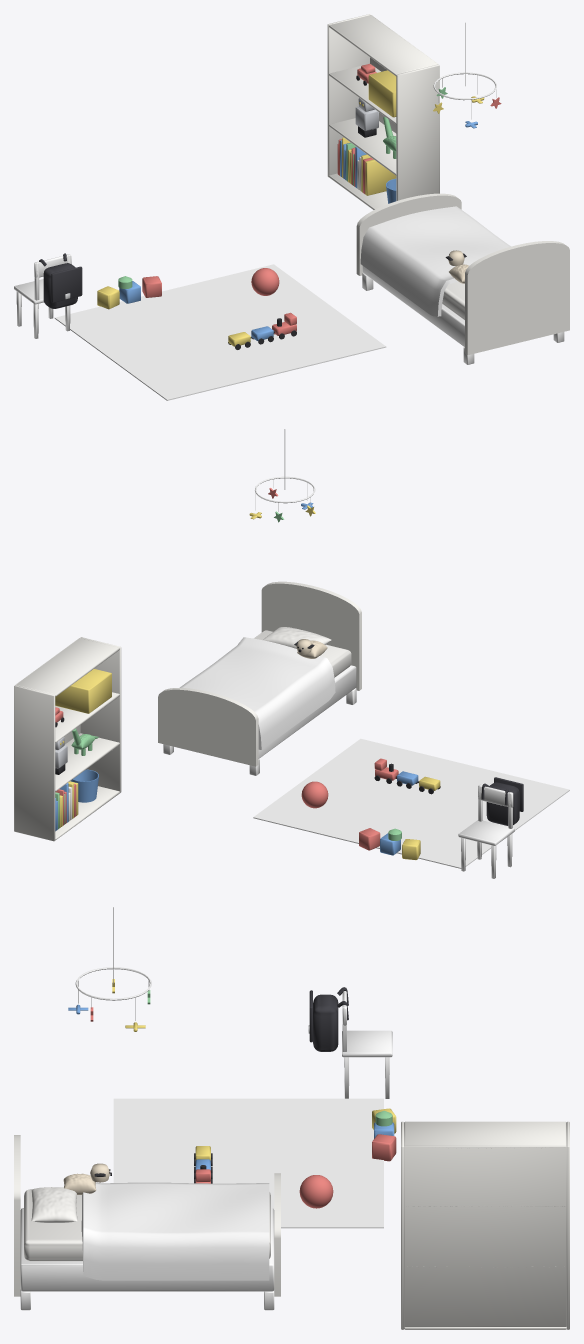
The model's file is SonRoom_Interior.fbx.
3 renders of one model, top to bottom at view 1: azimuth 30°, elevation 25°; view 2: azimuth 150°, elevation 25°; view 3: azimuth 270°, elevation 25°, orthographic. The views are drawn at different scales.
Parts seen in each view (by area): view 1: SonRoom_Interior; view 2: SonRoom_Interior; view 3: SonRoom_Interior.
Boxes of the visible parts, left/top/right/bottom form: SonRoom_Interior: left=14, top=14, right=569, bottom=400; SonRoom_Interior: left=14, top=429, right=569, bottom=878; SonRoom_Interior: left=14, top=907, right=569, bottom=1329.
Bounding box in the file's own units: 3.53 × 2.4 × 3.29.
